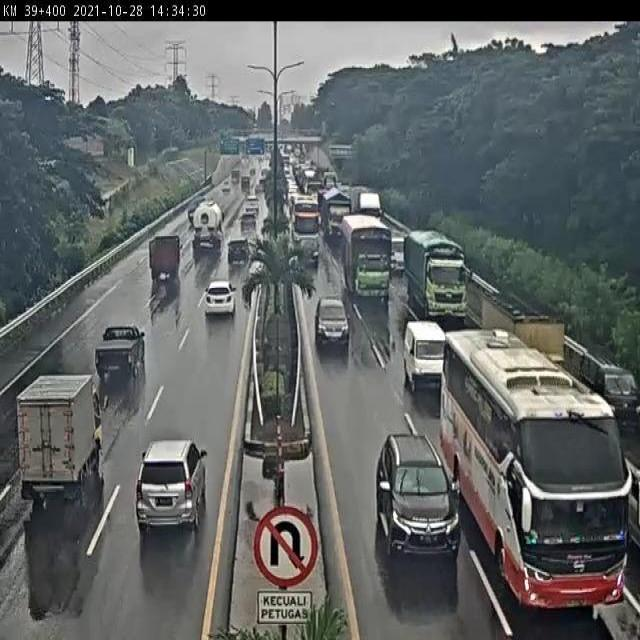big bus: (443, 335, 640, 609), (289, 190, 323, 262)
big truck: (403, 225, 468, 318), (341, 216, 391, 300)
car: (373, 437, 461, 567), (133, 433, 208, 539), (579, 352, 640, 432), (402, 316, 448, 396), (94, 324, 146, 387), (313, 297, 353, 353), (202, 280, 237, 321), (225, 238, 253, 270)
small truck: (15, 374, 100, 526), (516, 314, 569, 386), (146, 229, 181, 288), (188, 204, 225, 257)
